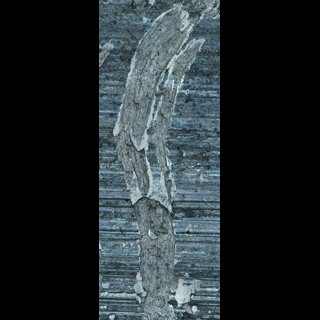d: (110, 51, 182, 180), (118, 159, 180, 261), (138, 2, 216, 76), (125, 261, 208, 320), (99, 279, 119, 320)
